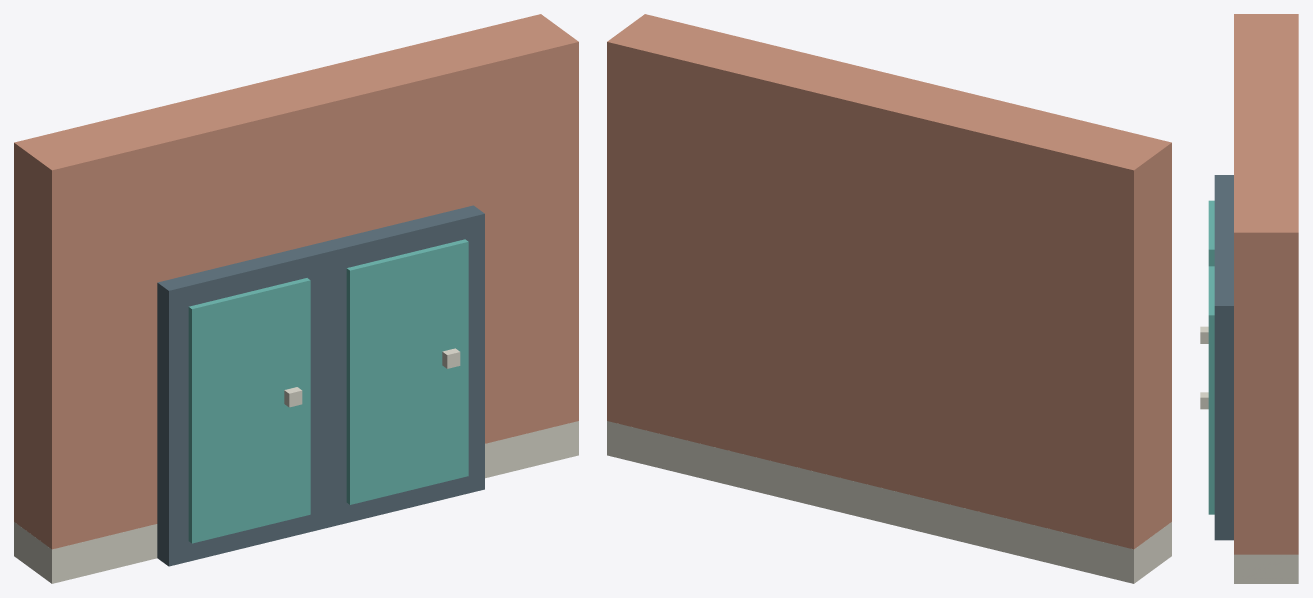
File: voxel-city-districts-double-door-bay-28221896__24801.glb
3 renders of one model, left to right at view 1: azimuth 30°, elevation 25°; view 2: azimuth 150°, elevation 25°; view 3: azimuth 270°, elevation 25°, orthographic. The views are drawn at different scales.
Visible parts, largest first — view 1: double-door-bay-brick, double-door-bay-accent, double-door-bay-dark, double-door-bay-concrete; view 2: double-door-bay-brick, double-door-bay-concrete; view 3: double-door-bay-brick, double-door-bay-dark, double-door-bay-concrete, double-door-bay-accent.
Part boxes in pixels (left/top/right/bottom): double-door-bay-brick: left=14, top=14, right=578, bottom=549; double-door-bay-accent: left=188, top=239, right=468, bottom=543; double-door-bay-dark: left=157, top=205, right=484, bottom=566; double-door-bay-concrete: left=14, top=348, right=578, bottom=583; double-door-bay-brick: left=607, top=14, right=1171, bottom=549; double-door-bay-concrete: left=607, top=421, right=1171, bottom=583; double-door-bay-brick: left=1234, top=14, right=1298, bottom=554; double-door-bay-dark: left=1214, top=175, right=1233, bottom=540; double-door-bay-concrete: left=1200, top=326, right=1298, bottom=583; double-door-bay-accent: left=1208, top=200, right=1214, bottom=514.
Size of the model in its own units: 4 by 3 by 0.7599.
